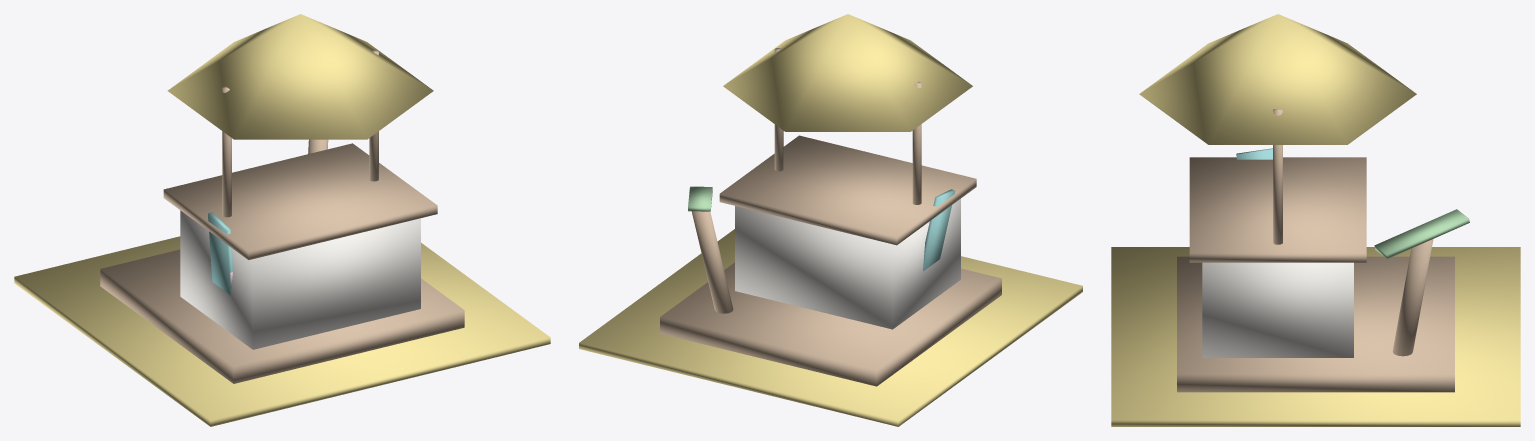
File: beach_resort_lv2.glb
3 views of the same model, side by side, from view 1: azimuth 30°, elevation 25°; view 2: azimuth 150°, elevation 25°; view 3: azimuth 270°, elevation 25° (orthographic). The views are drawn at different scales.
Parts seen in each view (by area): view 1: sand_base, bar_roof, bar_base, bar_counter, deck, surfboard, bar_col_l; view 2: sand_base, bar_roof, bar_base, deck, bar_counter, palm_trunk, surfboard, bar_col_l, palm_leaf; view 3: sand_base, bar_roof, deck, bar_counter, bar_base, palm_trunk, palm_leaf, bar_col_r.
Part boxes in pixels (x1,y1,x2,y2): sand_base: (14,236,550,426); bar_roof: (167,14,433,139); bar_base: (180,210,420,349); bar_counter: (163,143,437,259); deck: (100,249,464,383); surfboard: (208,212,232,294); bar_col_l: (222,86,231,217); sand_base: (579,229,1082,426); bar_roof: (723,14,972,131); bar_base: (735,199,960,329); deck: (660,262,1001,386); bar_counter: (719,135,976,245); palm_trunk: (691,211,733,313); surfboard: (923,189,955,271); bar_col_l: (912,82,921,204); palm_leaf: (688,186,712,211); sand_base: (1111,247,1520,426); bar_roof: (1139,14,1416,144); deck: (1177,256,1454,392); bar_counter: (1189,157,1366,262); bar_base: (1202,262,1353,357); palm_trunk: (1392,239,1433,356); palm_leaf: (1374,209,1469,258); bar_col_r: (1273,109,1282,244).
Size of the model in its own units: 1.62 by 1.42 by 1.62.
